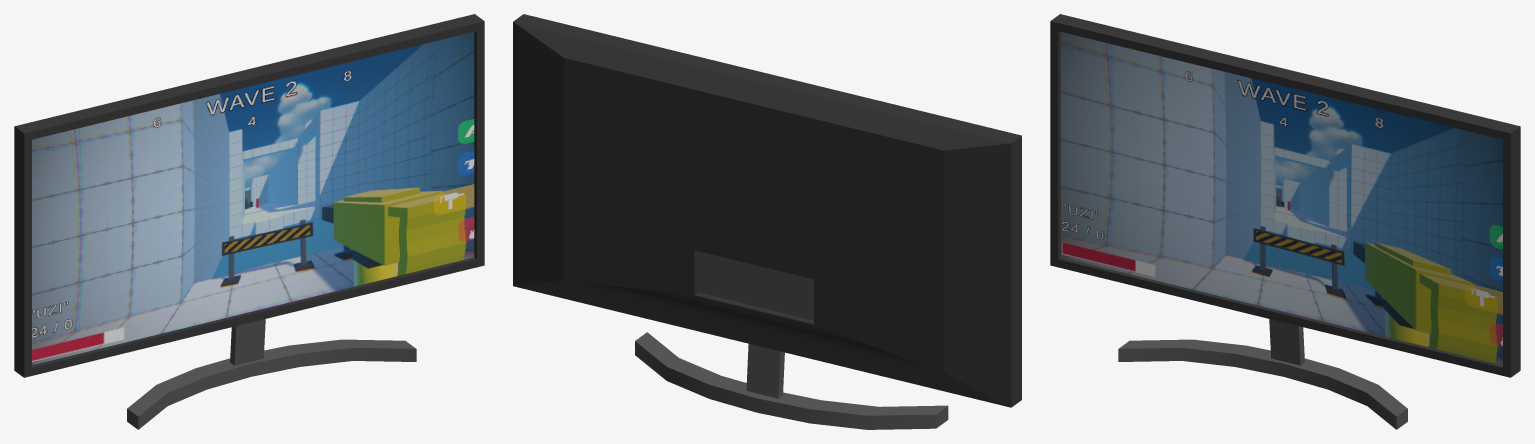
The model's file is Monitor_2.obj.
3 views of the same model, side by side, from view 1: azimuth 30°, elevation 25°; view 2: azimuth 150°, elevation 25°; view 3: azimuth 330°, elevation 25° (orthographic). The views are drawn at different scales.
Parts seen in each view (by area): view 1: Monitor_2; view 2: Monitor_2; view 3: Monitor_2.
Part boxes in pixels (x1=…): Monitor_2: x1=14, y1=14, x2=484, y2=429; Monitor_2: x1=513, y1=14, x2=1021, y2=429; Monitor_2: x1=1050, y1=14, x2=1520, y2=429.
Size of the model in its own units: 0.9385 by 0.5878 by 0.1421.
